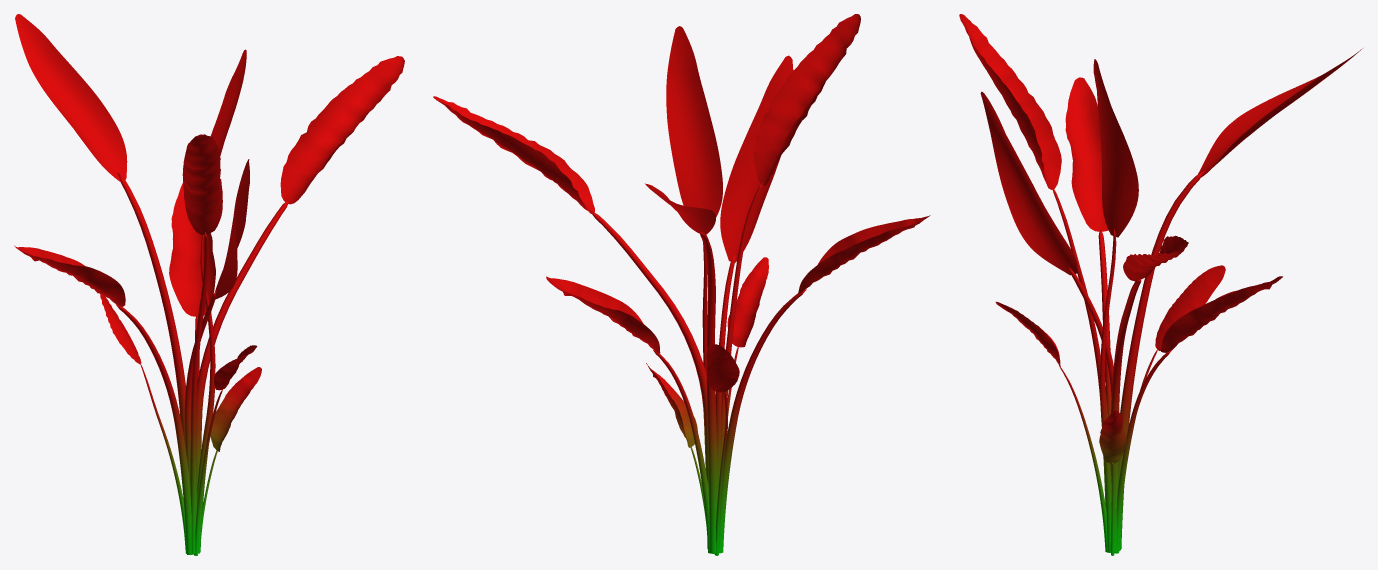
Rendered from Bird Of Paradise_LOD1_Var11_wfypeifha.fbx.
3 renders of one model, left to right at view 1: azimuth 30°, elevation 25°; view 2: azimuth 150°, elevation 25°; view 3: azimuth 270°, elevation 25°, orthographic. The views are drawn at different scales.
Visible parts, largest first — view 1: _vk1l_Var11_LOD1; view 2: _vk1l_Var11_LOD1; view 3: _vk1l_Var11_LOD1.
Boxes of the visible parts, x1,y1,x2,y2 form: _vk1l_Var11_LOD1: [14, 14, 404, 555]; _vk1l_Var11_LOD1: [433, 14, 930, 555]; _vk1l_Var11_LOD1: [959, 14, 1362, 555].
Size of the model in its own units: 158 by 173 by 123.
